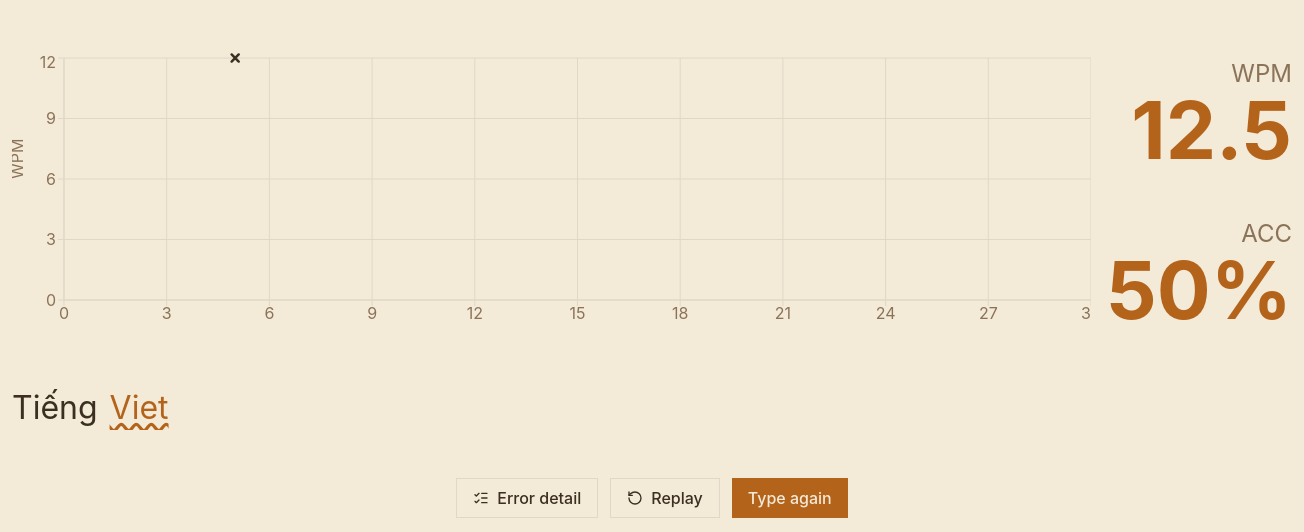
Test: TypingResultPage › shows the final WPM and accuracy and, once asked, the mistakes with their error types
This screenshot has width=1304, height=532.
Check: the text "12.5" is shown, box top-left (1131, 90), bottom-right (1292, 170)
Check: the text "50%" is shown, box top-left (1107, 250), bottom-right (1292, 330)
Click the button "Error detail" at [527, 498], box top-left (456, 478), bottom-right (598, 518)
(page scrolled)
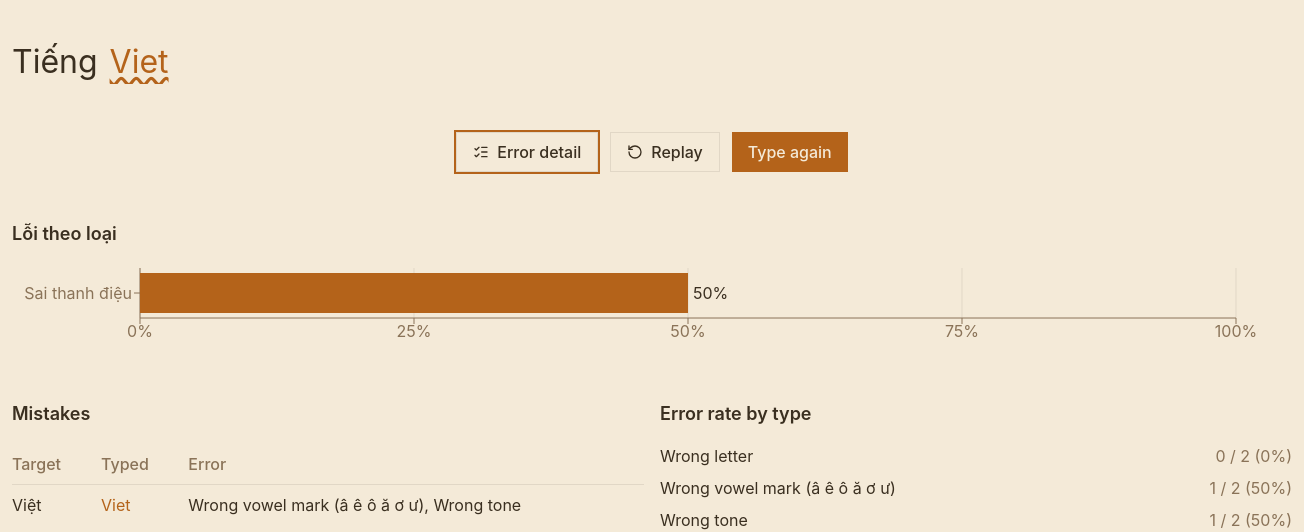
Check: the text "Viet" is shown, box top-left (101, 484), bottom-right (188, 525)
Check: the text "Wrong vowel mark (â ê ô ă ơ ư), Wrong tone" is shown, box top-left (188, 484), bottom-right (644, 525)
Check: the text "Wrong tone" is shown, box top-left (660, 508), bottom-right (748, 531)
